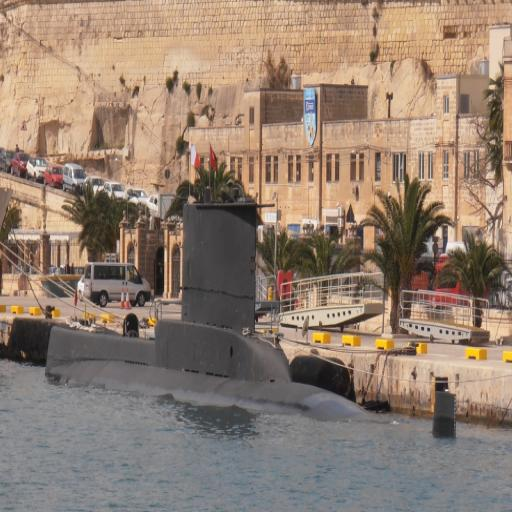submarine: (50, 207, 461, 437)
